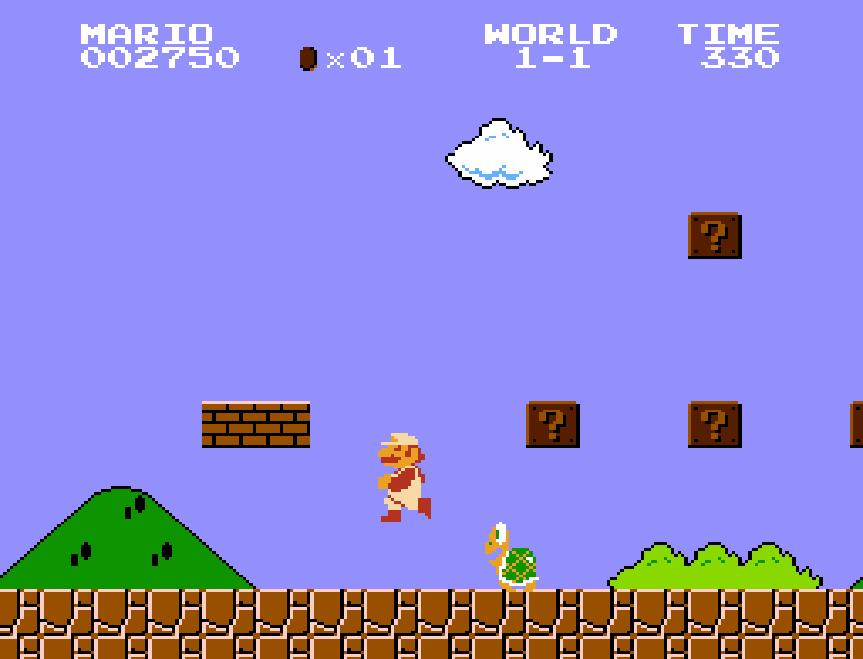fire_mario: (376, 425, 434, 524)
